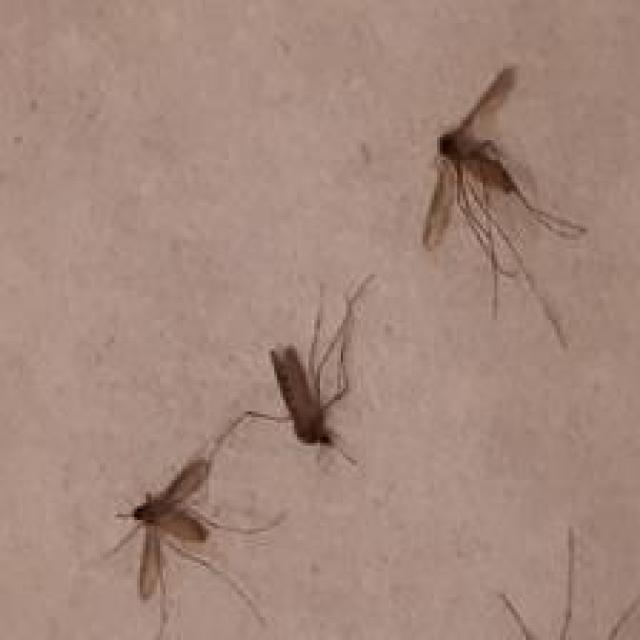Culex: (420, 64, 589, 350)
